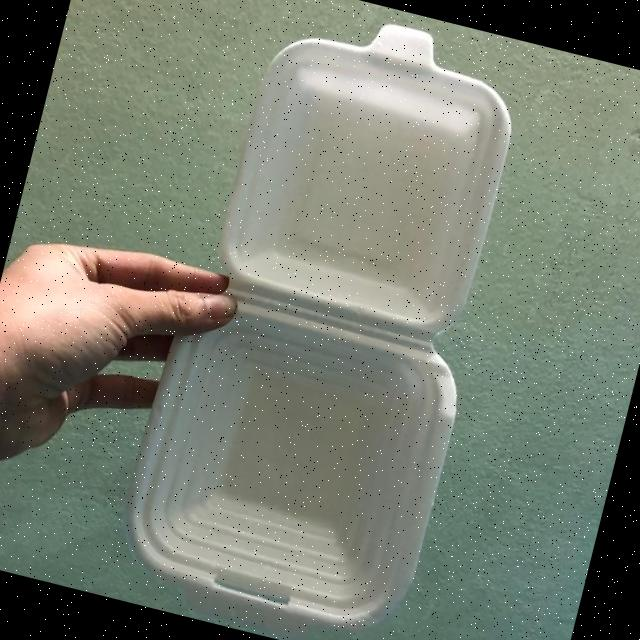styrofoam: (106, 0, 546, 640)
